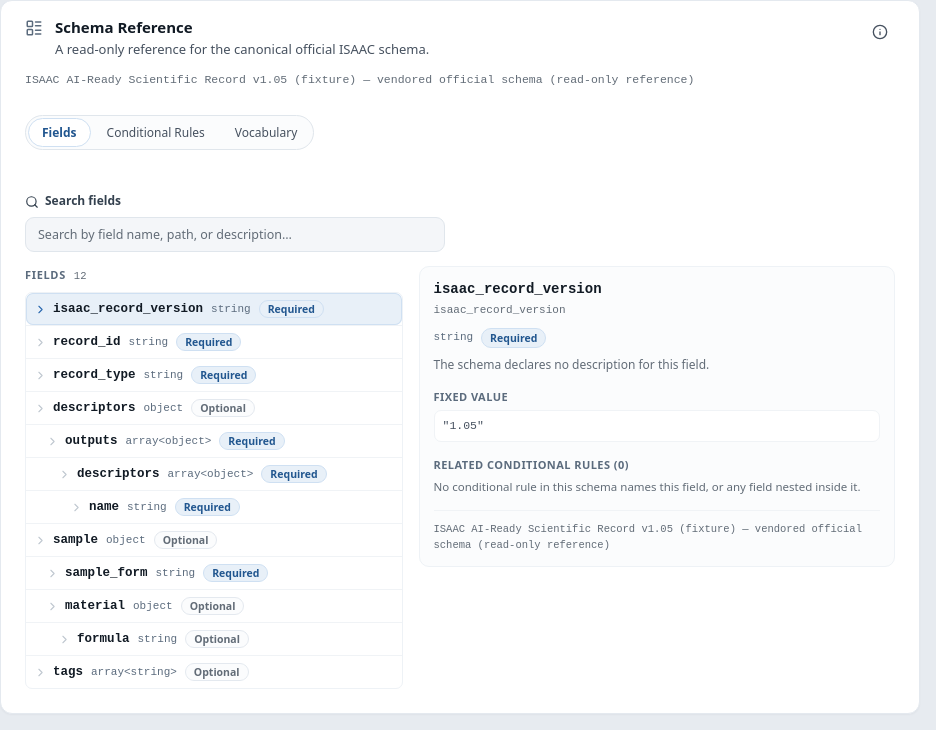
SchemaBrowser — Fields search › filters the field list by name/path/description
Expected: the text "sample" is shown, top-left (53, 533), bottom-right (98, 547)
Expected: the text "tags" is shown, top-left (53, 665), bottom-right (83, 679)
Type "ULID" into the search field labelled "Search fields" at (235,234), box top-left (25, 217), bottom-right (445, 252)
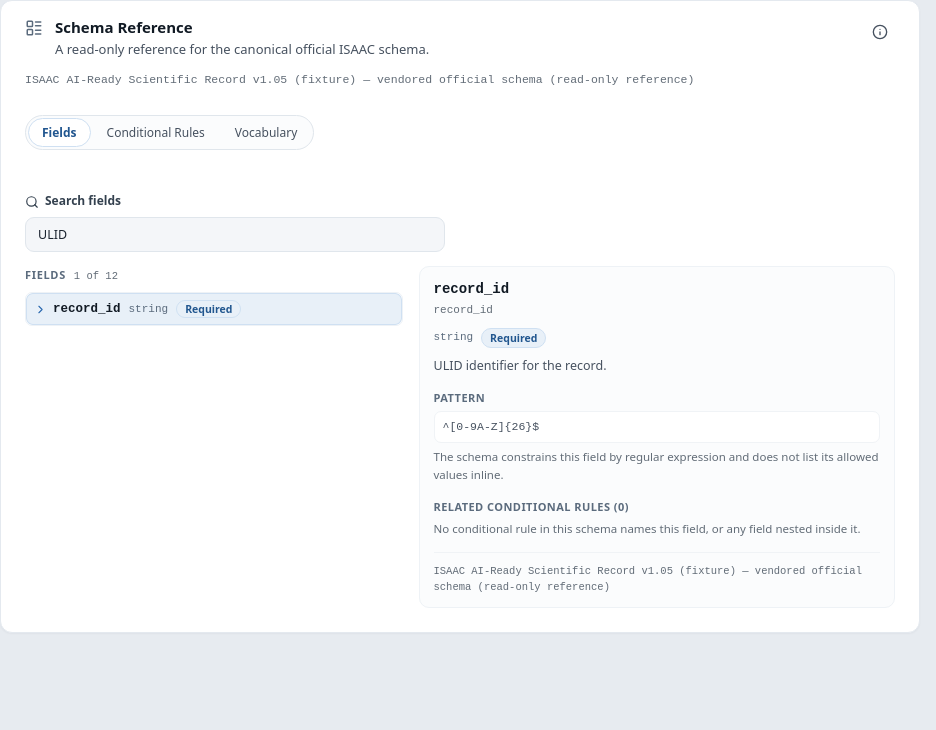
Expected: the text "record_id" below "1 of 12" is shown, top-left (53, 302), bottom-right (120, 316)
Expected: the button "sample" is gone
Expected: the button "tags" is gone
